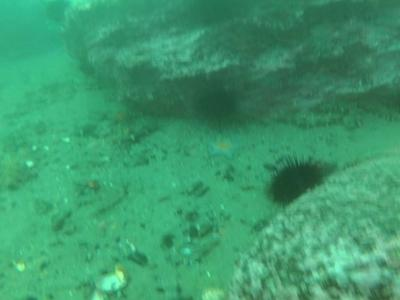urchin: (269, 154, 326, 205), (197, 86, 247, 128)
